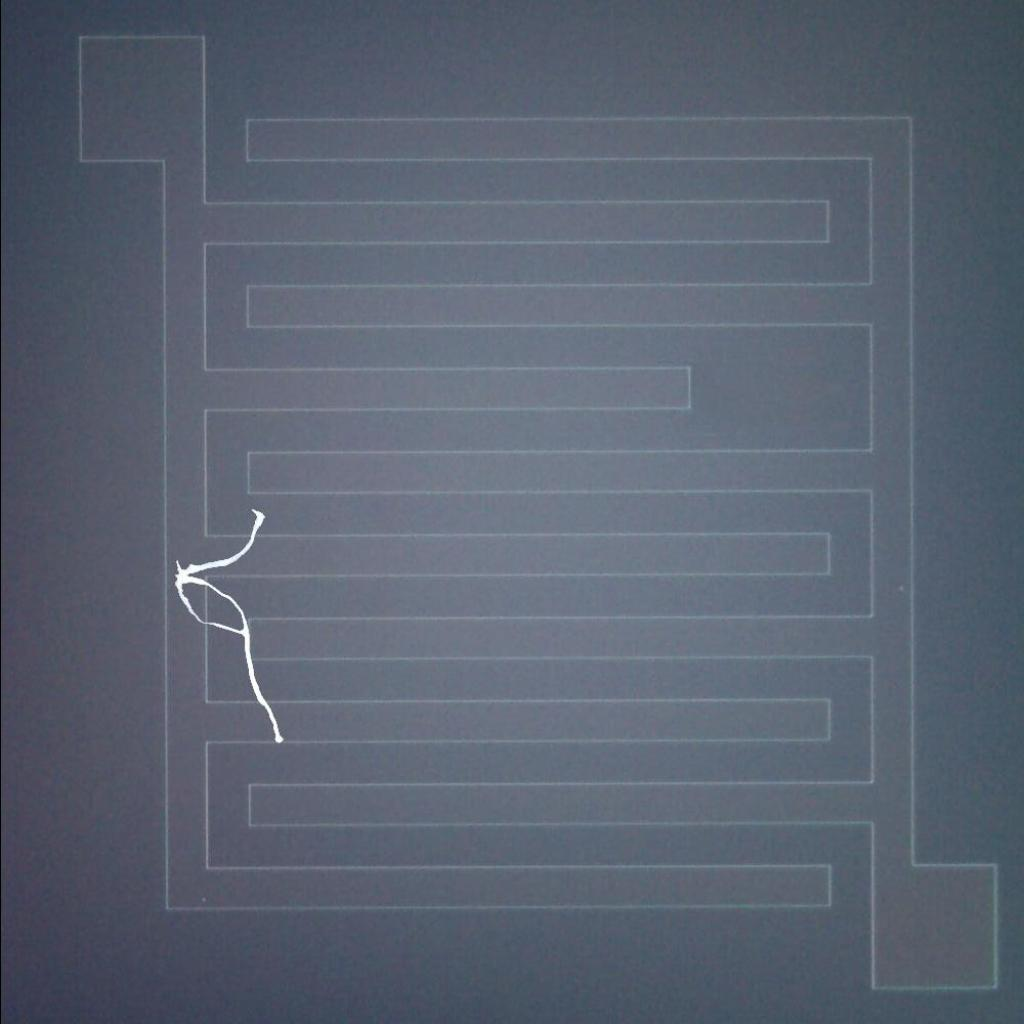line: (164, 504, 293, 750)
